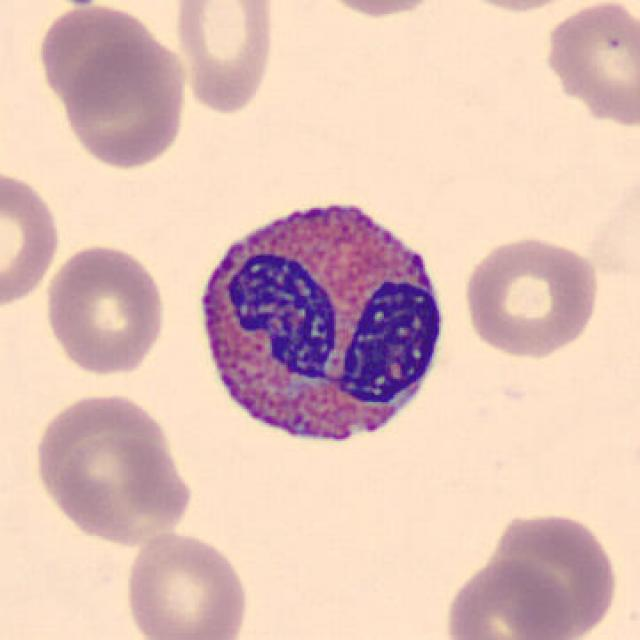Eosinophil: (187, 178, 457, 471)
Platelets: (59, 0, 101, 11)
RBC: (30, 390, 196, 548), (458, 231, 602, 360), (59, 35, 192, 173), (487, 506, 624, 638), (41, 240, 171, 377), (34, 2, 169, 113), (121, 527, 252, 640), (538, 0, 638, 130), (169, 0, 279, 118), (441, 555, 574, 640), (0, 164, 64, 314), (303, 0, 453, 19), (444, 0, 588, 14)
